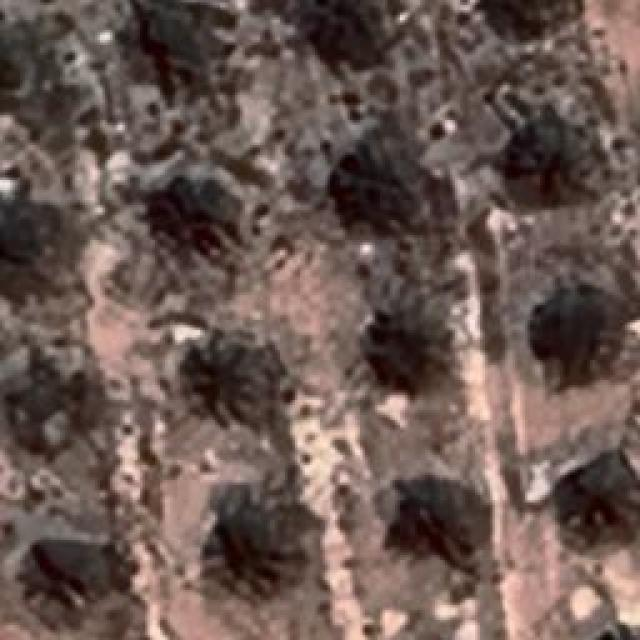PalmTree: (0, 362, 80, 456), (371, 314, 451, 404), (554, 456, 636, 539), (281, 0, 394, 60), (125, 0, 210, 78), (214, 508, 294, 590), (148, 180, 226, 262), (186, 338, 272, 412), (535, 294, 610, 376), (396, 484, 464, 566), (29, 532, 102, 606), (337, 148, 405, 226), (16, 65, 45, 245), (511, 128, 571, 196), (497, 0, 572, 42), (0, 16, 21, 110), (576, 622, 640, 640), (580, 624, 640, 640), (578, 628, 640, 640)
